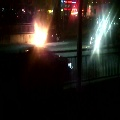fire: (31, 22, 48, 47)
